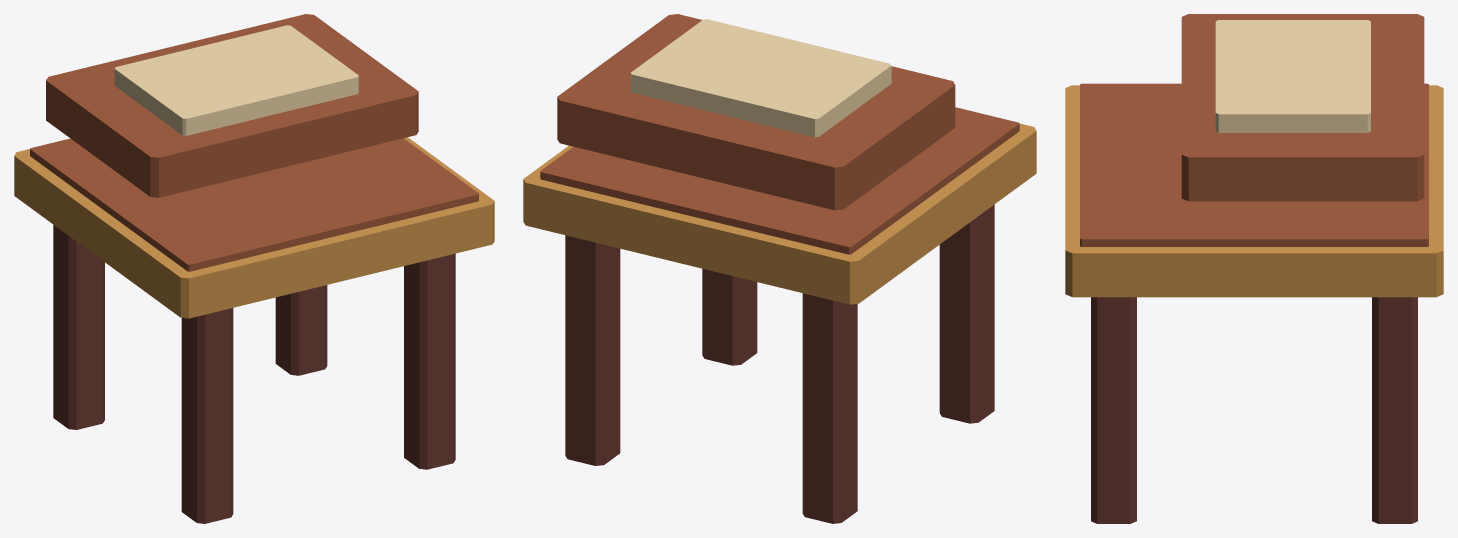
Rendered from Lectern.fbx.
3 views of the same model, side by side, from view 1: azimuth 30°, elevation 25°; view 2: azimuth 150°, elevation 25°; view 3: azimuth 270°, elevation 25° (orthographic). The views are drawn at different scales.
Parts seen in each view (by area): view 1: Lectern.005; view 2: Lectern.005; view 3: Lectern.005.
Part boxes in pixels (box(x1,y1,x2,y2)): Lectern.005: box(14, 14, 494, 523); Lectern.005: box(523, 14, 1036, 523); Lectern.005: box(1065, 14, 1443, 523).
Bounding box in the file's own units: 82 × 88.25 × 78.
